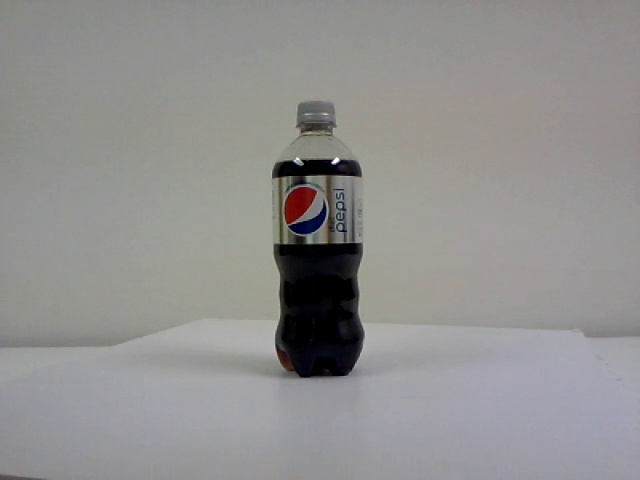botolplastik: (274, 102, 364, 377)
